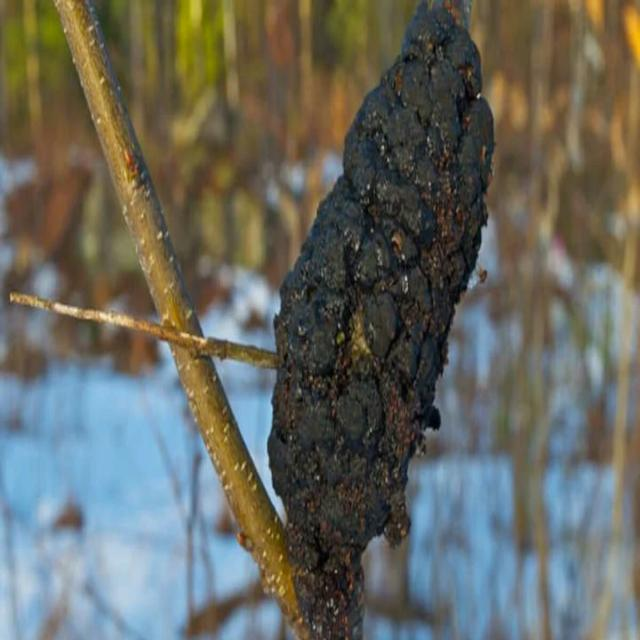Black_knot: (265, 1, 496, 636)
